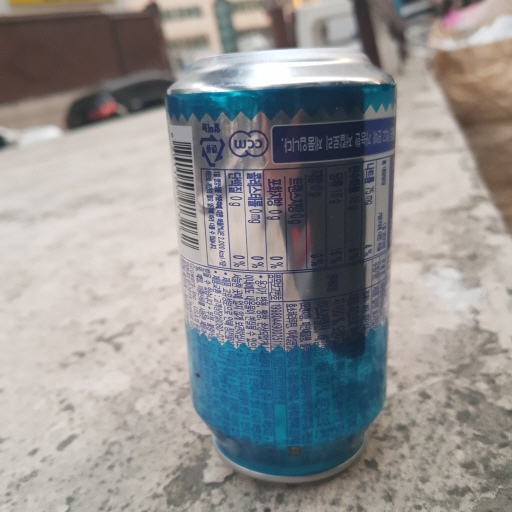Metal_0: (163, 52, 398, 483)
